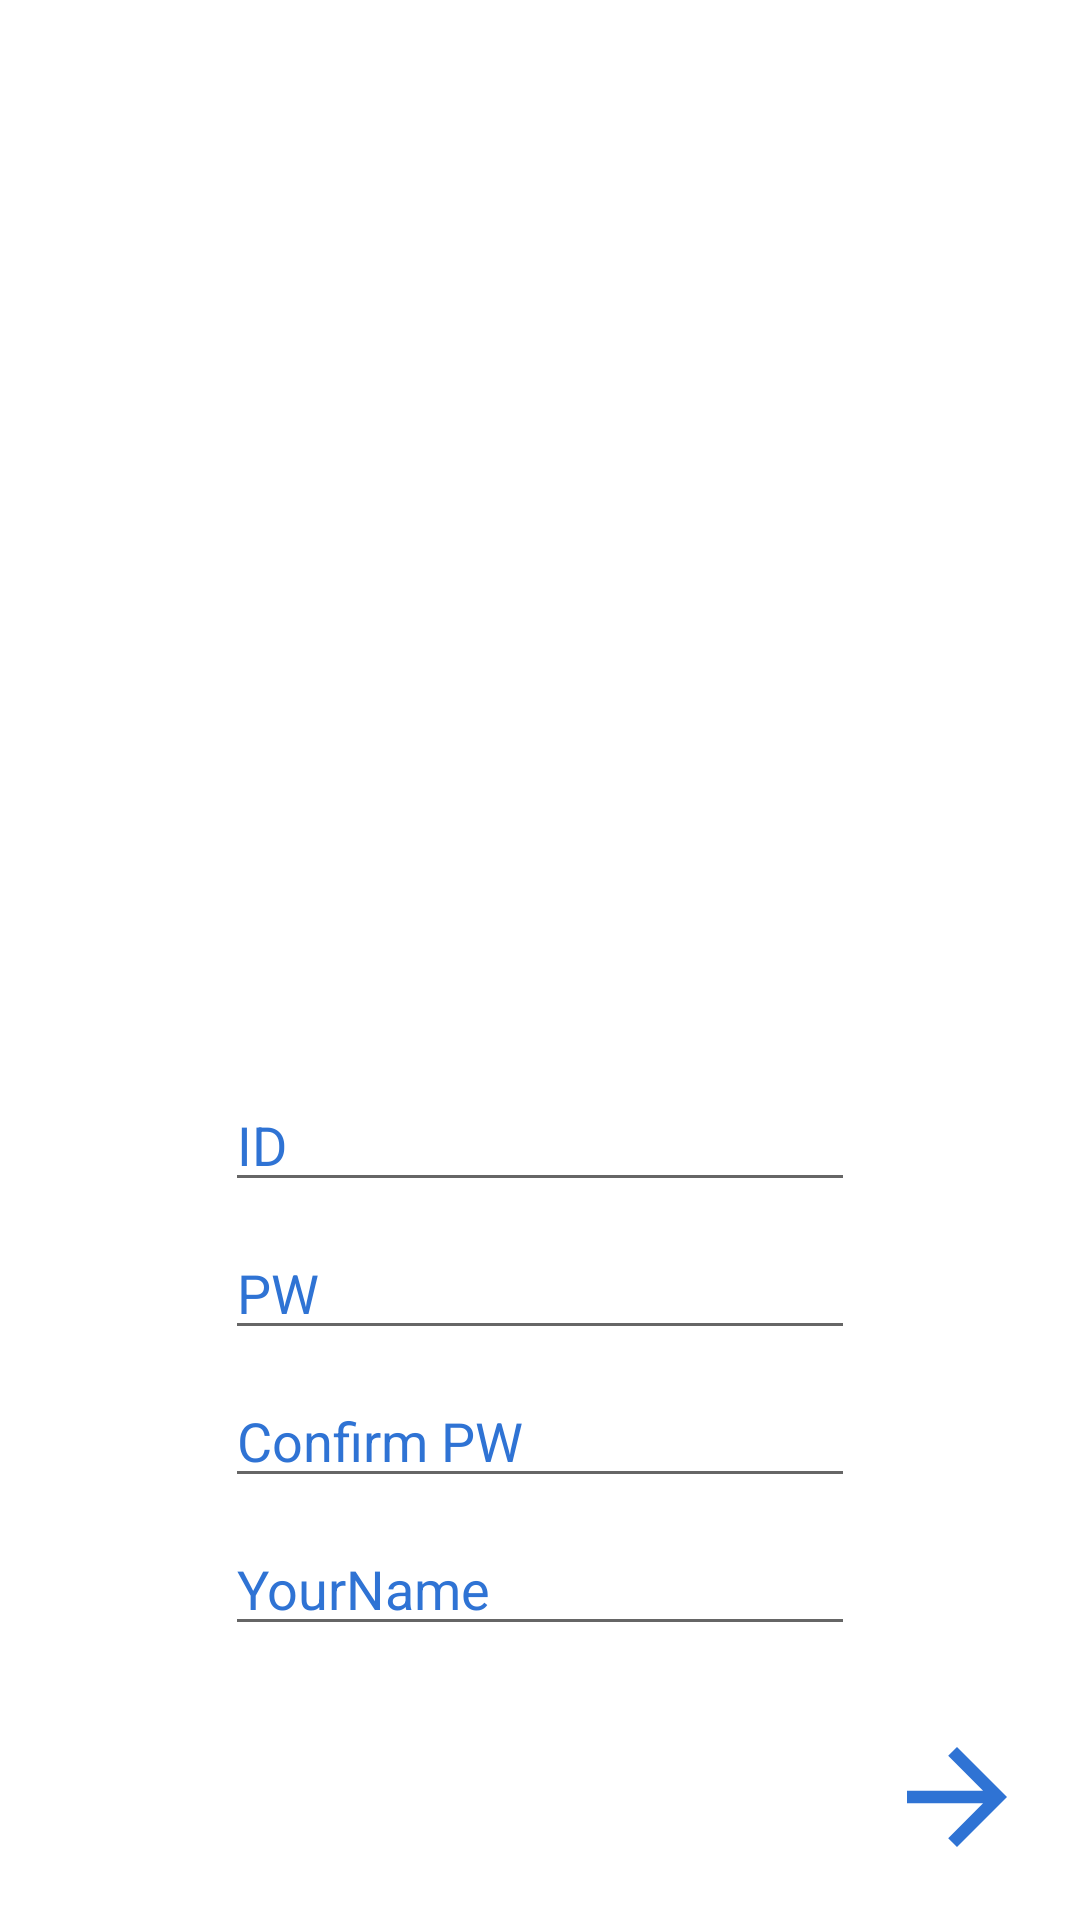

Named icons in this screenshot (1080px×1920px) and their centers, [x,y]:
arrow forward: [957,1797]
